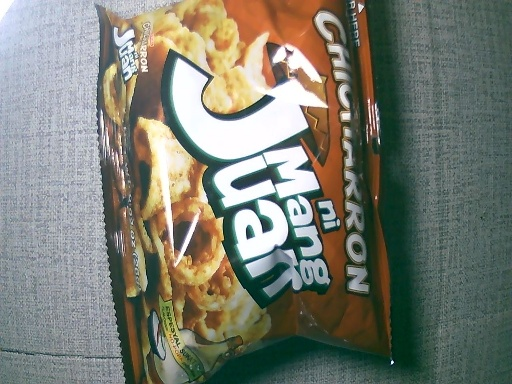plastic: (90, 1, 399, 378)
